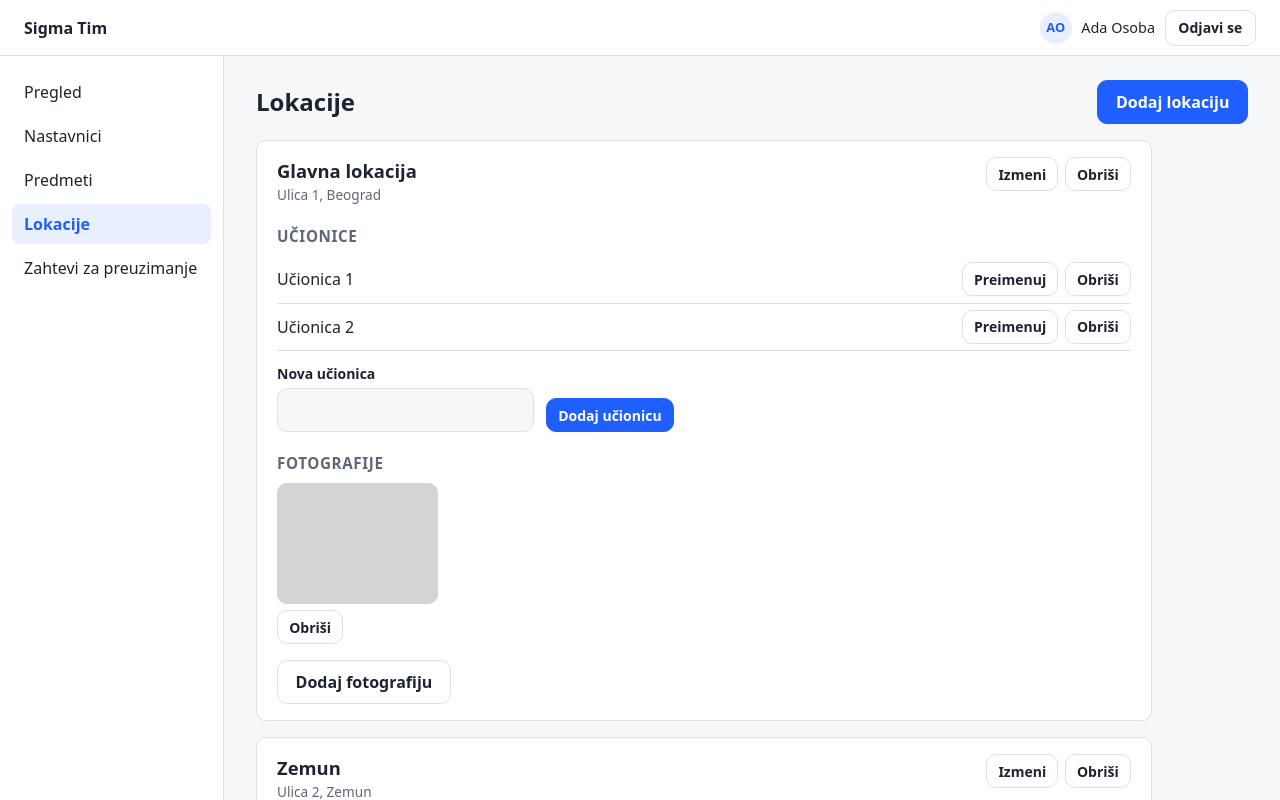
Test: locations › deletes an empty location after confirmation
Click the button "Obriši" in the row of "Ulica 2, Zemun".
click(1098, 771)  # box [1065,754,1131,788]
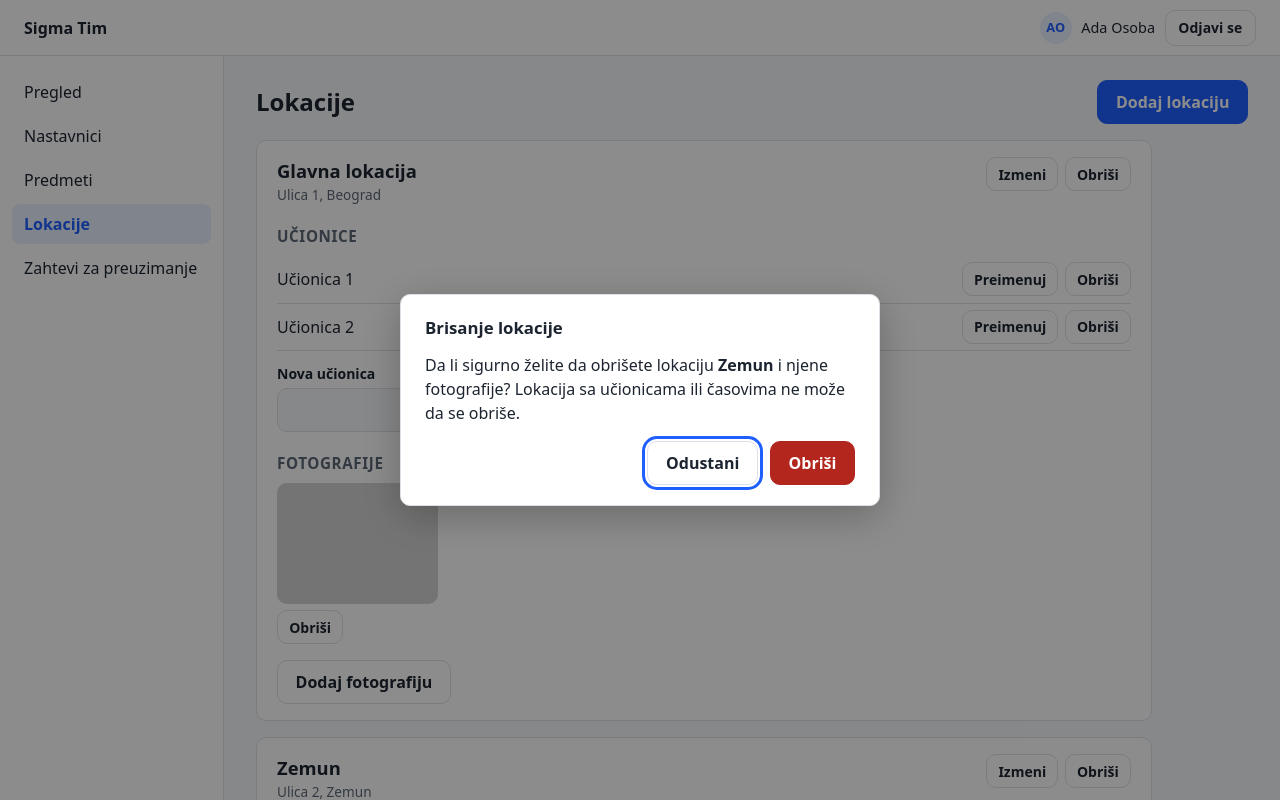
Click the button "Obriši".
click(812, 463)  # box [770,441,855,485]
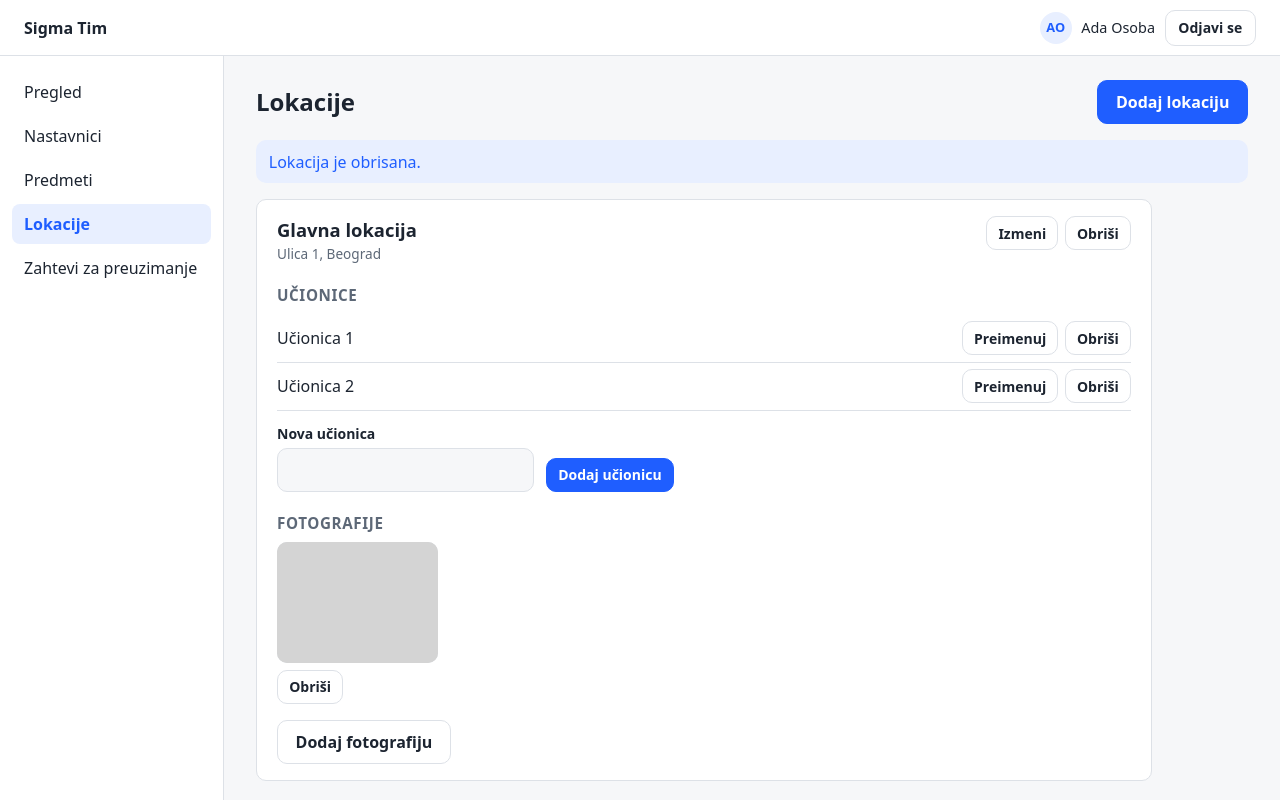
Result: the heading "Zemun" is gone
